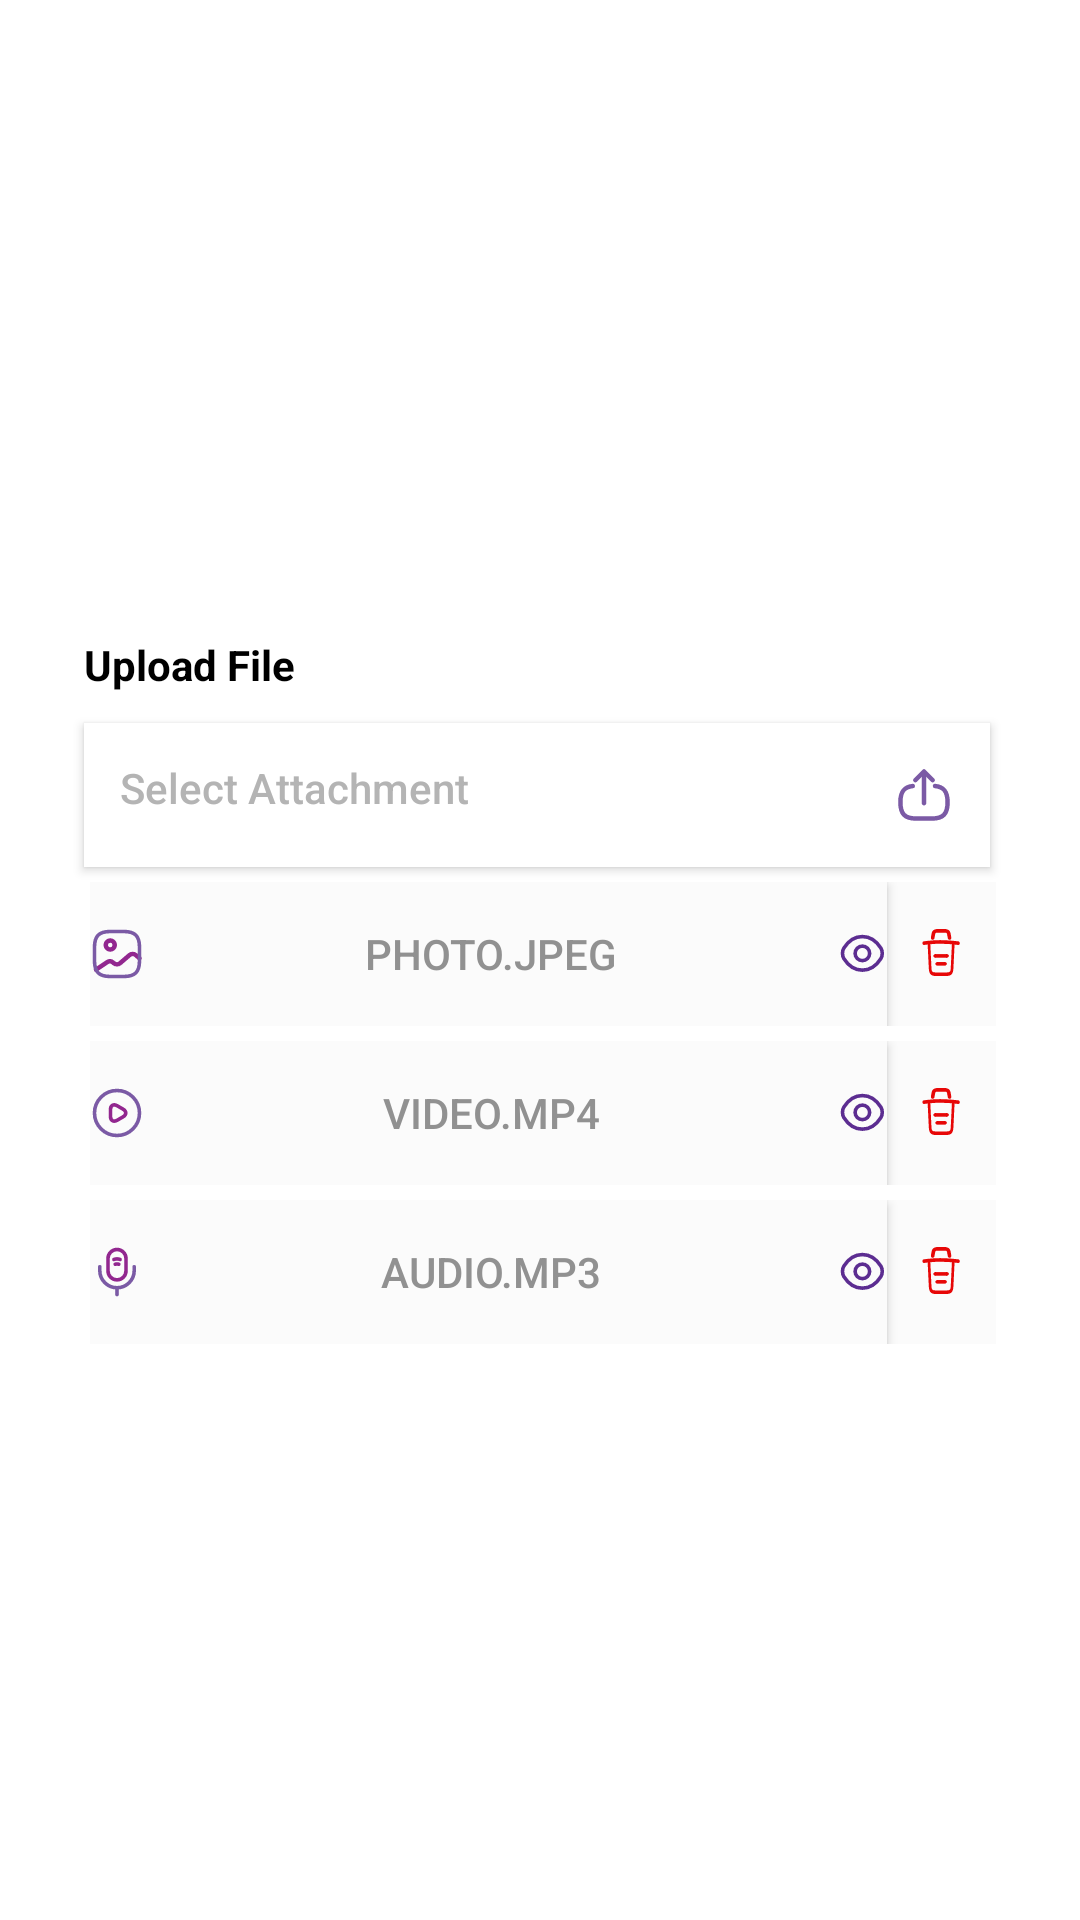

Screen size 1080×1920. Icon name, then its center in pixels as [x,y]:
delete: [941,952], [941,1111], [941,1270]
